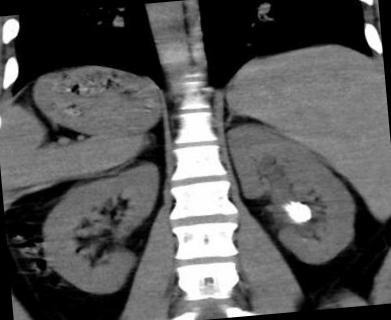Tas_Var: (279, 194, 315, 232), (300, 236, 308, 244)
